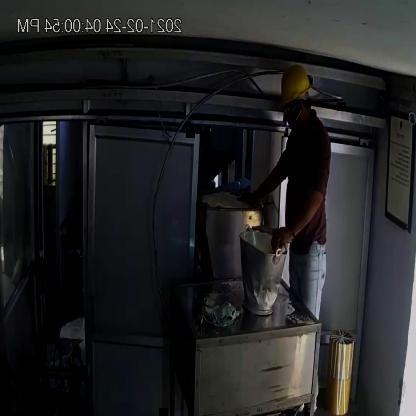helmet: (276, 59, 314, 114)
